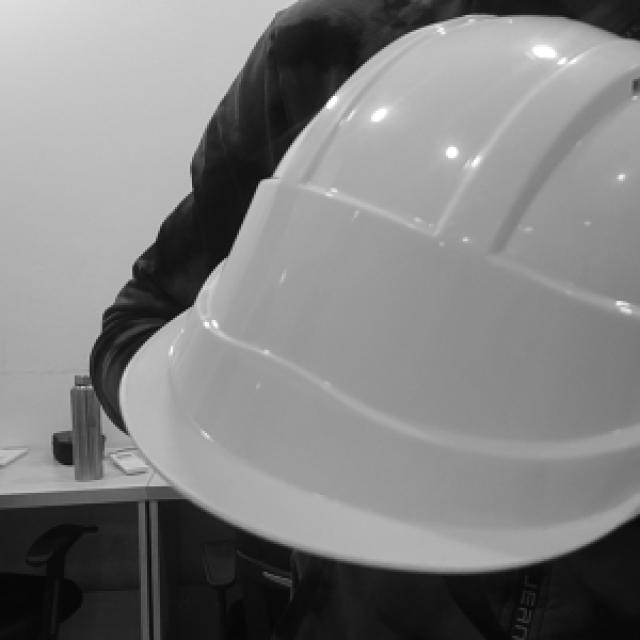safety_helmet: (119, 13, 640, 576)
